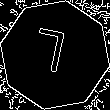L_S: (34, 27, 76, 83)
